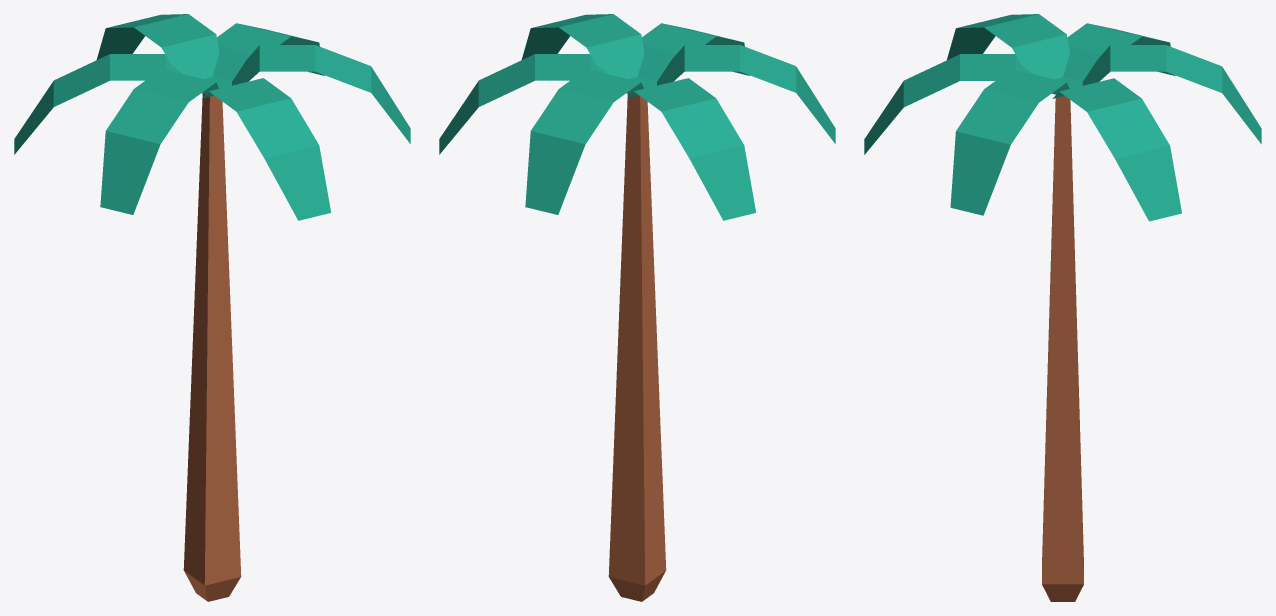
File: tree-palm.glb
The picture shows the model from 3 angles, left to right: view 1: azimuth 30°, elevation 25°; view 2: azimuth 150°, elevation 25°; view 3: azimuth 270°, elevation 25°; orthographic projection.
Visible parts, largest first — view 1: geometry_0; view 2: geometry_0; view 3: geometry_0.
Part boxes in pixels (left/top/right/bottom): geometry_0: left=14, top=14, right=410, bottom=601; geometry_0: left=439, top=14, right=835, bottom=601; geometry_0: left=864, top=14, right=1261, bottom=601.
Bounding box in the file's own units: 0.5127 × 0.83 × 0.555.
